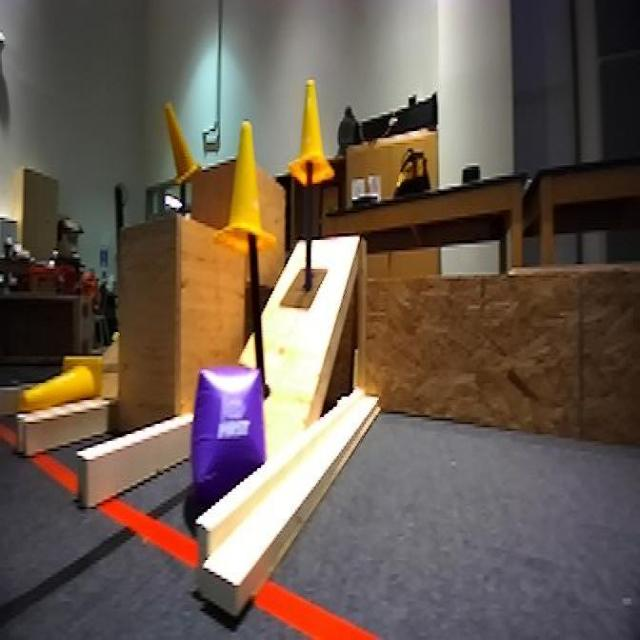frc_cone: (221, 130, 276, 250), (14, 352, 103, 422), (288, 78, 334, 188), (166, 94, 199, 189)
frc_cube: (186, 359, 266, 507)
